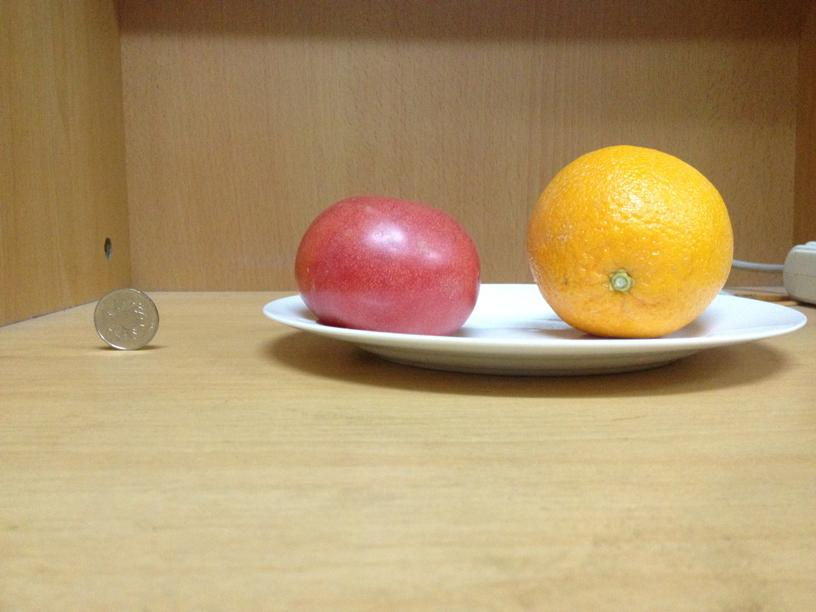coin: (93, 287, 158, 350)
orange: (530, 144, 734, 337)
tomato: (296, 197, 480, 336)
